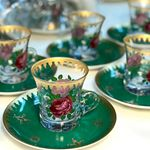cups: (30, 55, 102, 132), (1, 24, 34, 87), (121, 31, 150, 95)
